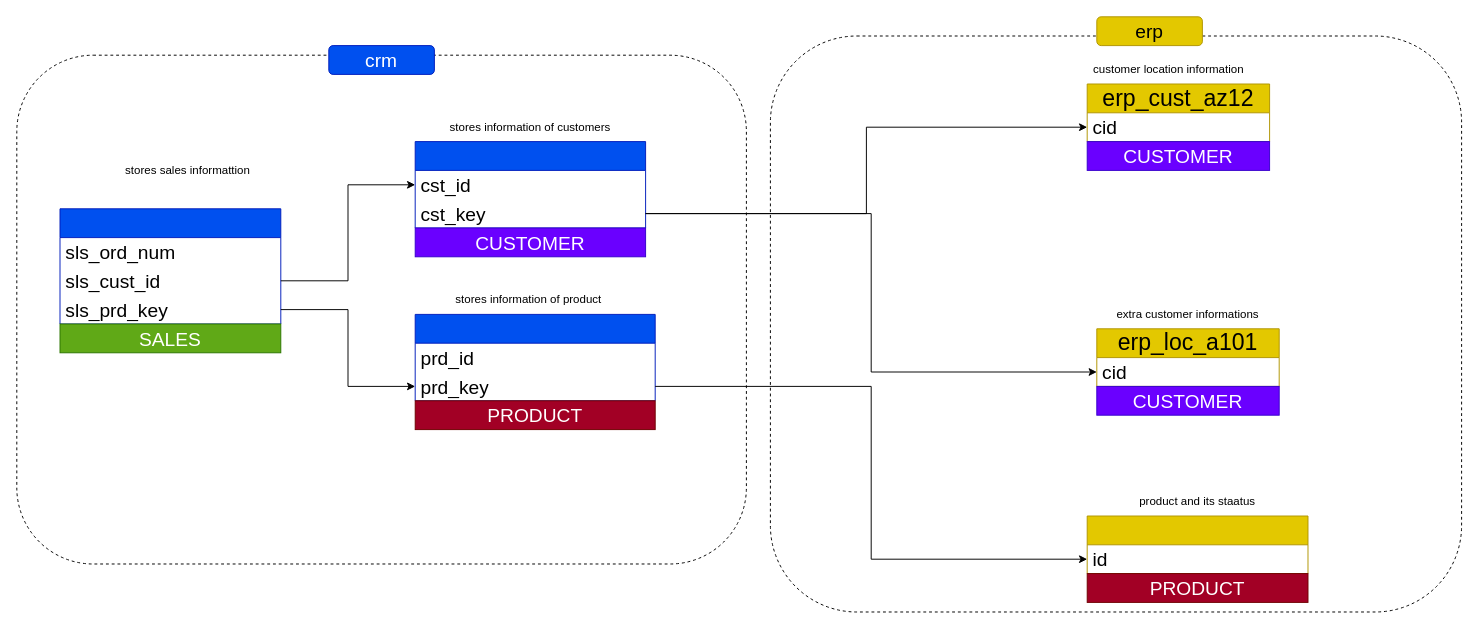
This 1478x629 diagram has some shape labels left out. Here are the shapes that lost their labels. From the top down, the box of each, then its label:
(414, 141, 646, 228): crm_cust_info
(59, 208, 281, 324): crm_sales_details
(414, 313, 655, 401): crm_prd_info
(1086, 515, 1308, 574): erp_px_cat_g1v2
